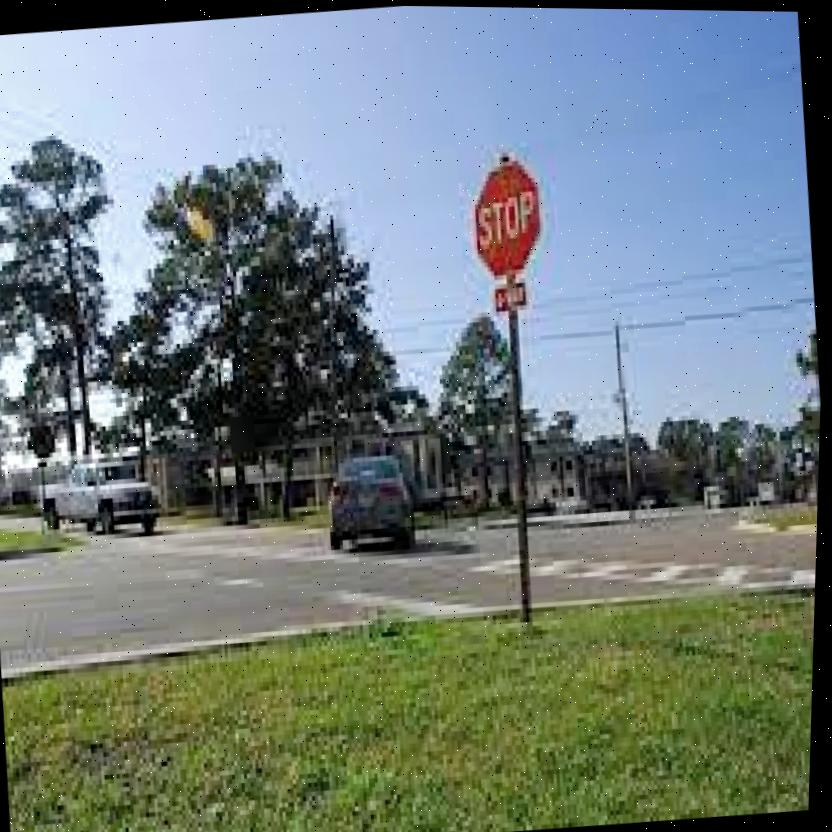Pole: (501, 311, 547, 623)
Sign: (472, 157, 545, 279)
